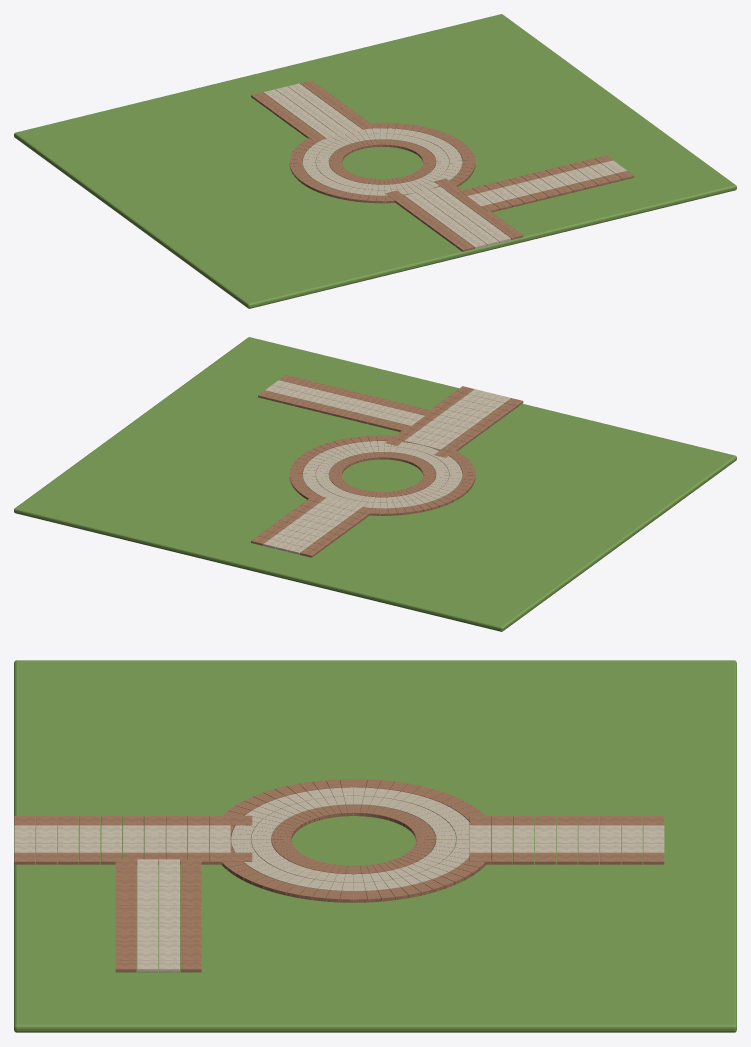
The model's file is garden-ground.glb.
3 views of the same model, one above another, from view 1: azimuth 30°, elevation 25°; view 2: azimuth 150°, elevation 25°; view 3: azimuth 270°, elevation 25° (orthographic). The views are drawn at different scales.
Visible parts, largest first — view 1: garden_ground; view 2: garden_ground; view 3: garden_ground.
Part boxes in pixels (box(x1,y1,x2,y2)): garden_ground: box(14, 14, 736, 308); garden_ground: box(14, 337, 736, 631); garden_ground: box(14, 660, 736, 1032).
Bounding box in the file's own units: 12 × 0.183 × 10.
3 materials, 2 textured.
